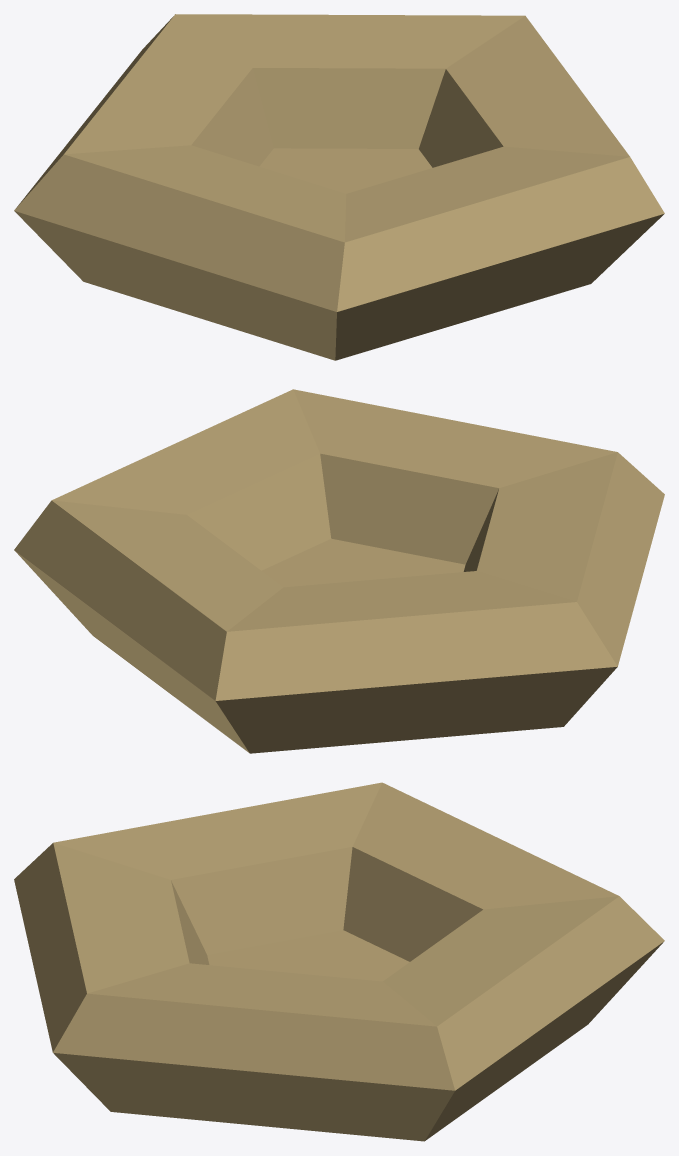
The model's file is detail_004a_encrusting_sponge.glb.
The picture shows the model from 3 angles, top to bottom: view 1: azimuth 30°, elevation 25°; view 2: azimuth 150°, elevation 25°; view 3: azimuth 270°, elevation 25°; orthographic projection. The views are drawn at different scales.
Visible parts, largest first — view 1: detail_004a_encrusting_sponge__mesh; view 2: detail_004a_encrusting_sponge__mesh; view 3: detail_004a_encrusting_sponge__mesh.
Boxes of the visible parts, box(x1,y1,x2,y2) form: detail_004a_encrusting_sponge__mesh: box(14, 14, 664, 360); detail_004a_encrusting_sponge__mesh: box(14, 389, 664, 753); detail_004a_encrusting_sponge__mesh: box(14, 782, 664, 1141).
Bounding box in the file's own units: 0.1439 × 0.0316 × 0.1411.
